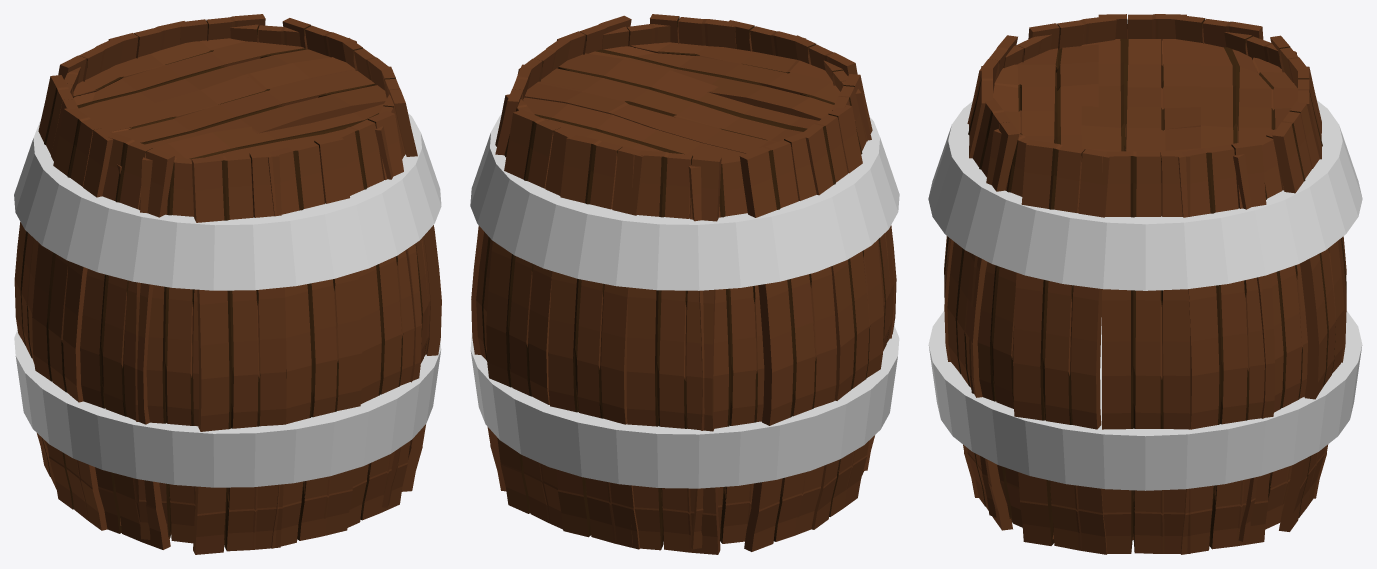
Rendered from Barrel.fbx.
3 views of the same model, side by side, from view 1: azimuth 30°, elevation 25°; view 2: azimuth 150°, elevation 25°; view 3: azimuth 270°, elevation 25° (orthographic).
Parts seen in each view (by area): view 1: Cube.014, Cylinder, Cube.018; view 2: Cube.014, Cylinder, Cube.018; view 3: Cube.014, Cylinder, Cube.018.
Boxes of the visible parts, x1,y1,x2,y2 form: Cube.014: (14,14,441,554); Cylinder: (14,113,441,487); Cube.018: (73,38,386,174); Cube.014: (471,14,896,554); Cylinder: (470,114,899,488); Cube.018: (523,42,855,158); Cube.014: (944,14,1346,554); Cylinder: (928,100,1362,490); Cube.018: (993,39,1297,160).
Size of the model in its own units: 471 by 472 by 470.
